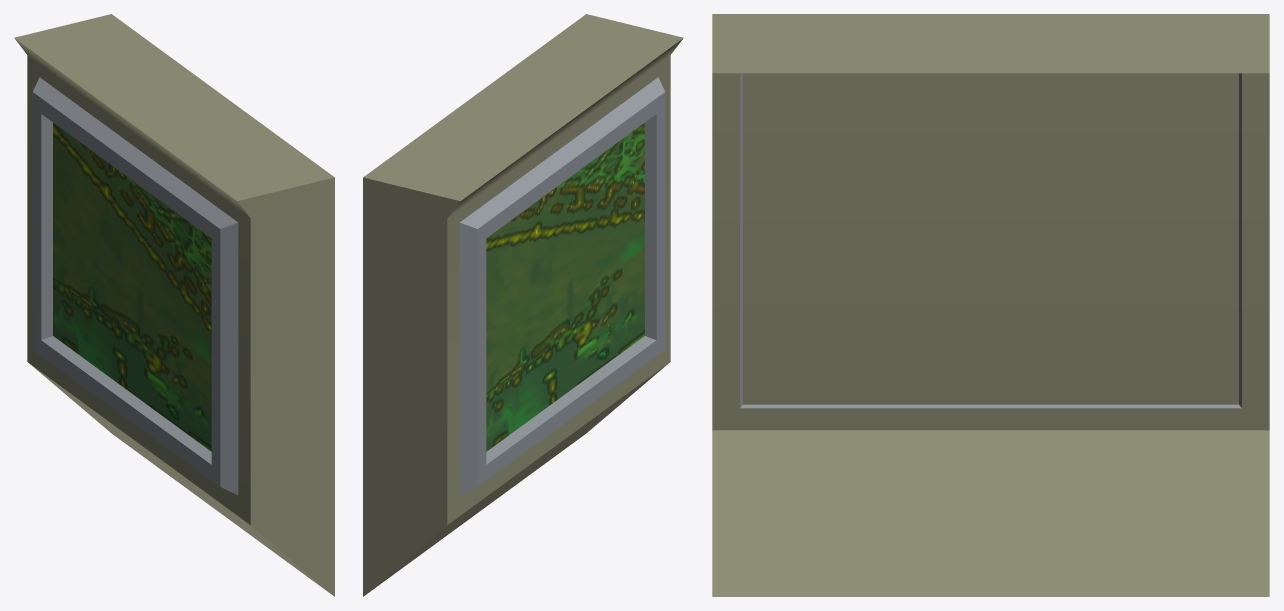
Rendered from Monitor_Frame.fbx.
3 views of the same model, side by side, from view 1: azimuth 30°, elevation 25°; view 2: azimuth 150°, elevation 25°; view 3: azimuth 270°, elevation 25° (orthographic). The views are drawn at different scales.
Parts seen in each view (by area): view 1: Monitor_Frame; view 2: Monitor_Frame; view 3: Monitor_Frame.
Boxes of the visible parts, x1,y1,x2,y2 form: Monitor_Frame: [14, 14, 334, 596]; Monitor_Frame: [363, 14, 683, 596]; Monitor_Frame: [712, 14, 1269, 596].
Size of the model in its own units: 25.23 by 100 by 104.
